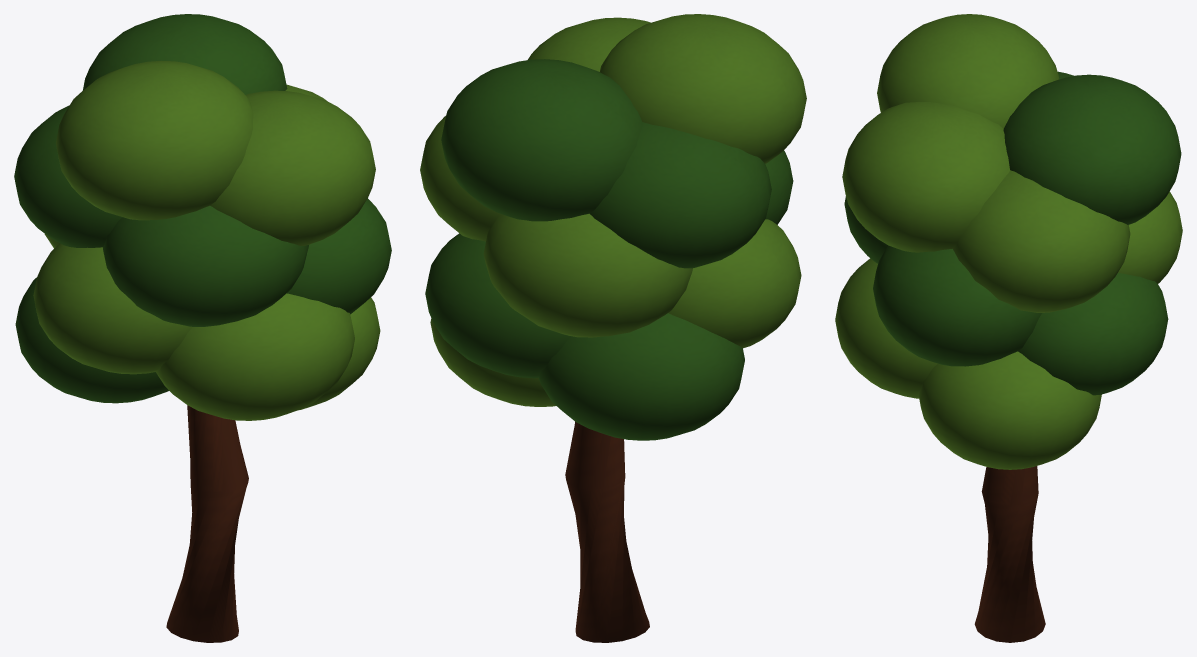
The model's file is SM_tree.fbx.
The picture shows the model from 3 angles, left to right: view 1: azimuth 30°, elevation 25°; view 2: azimuth 150°, elevation 25°; view 3: azimuth 270°, elevation 25°; orthographic projection. The views are drawn at different scales.
Parts seen in each view (by area): view 1: SM_tree; view 2: SM_tree; view 3: SM_tree.
Boxes of the visible parts, bbox=[...] form: SM_tree: bbox=[14, 14, 391, 642]; SM_tree: bbox=[420, 14, 806, 642]; SM_tree: bbox=[835, 14, 1182, 642].
Size of the model in its own units: 1.55 by 1.47 by 2.66.
